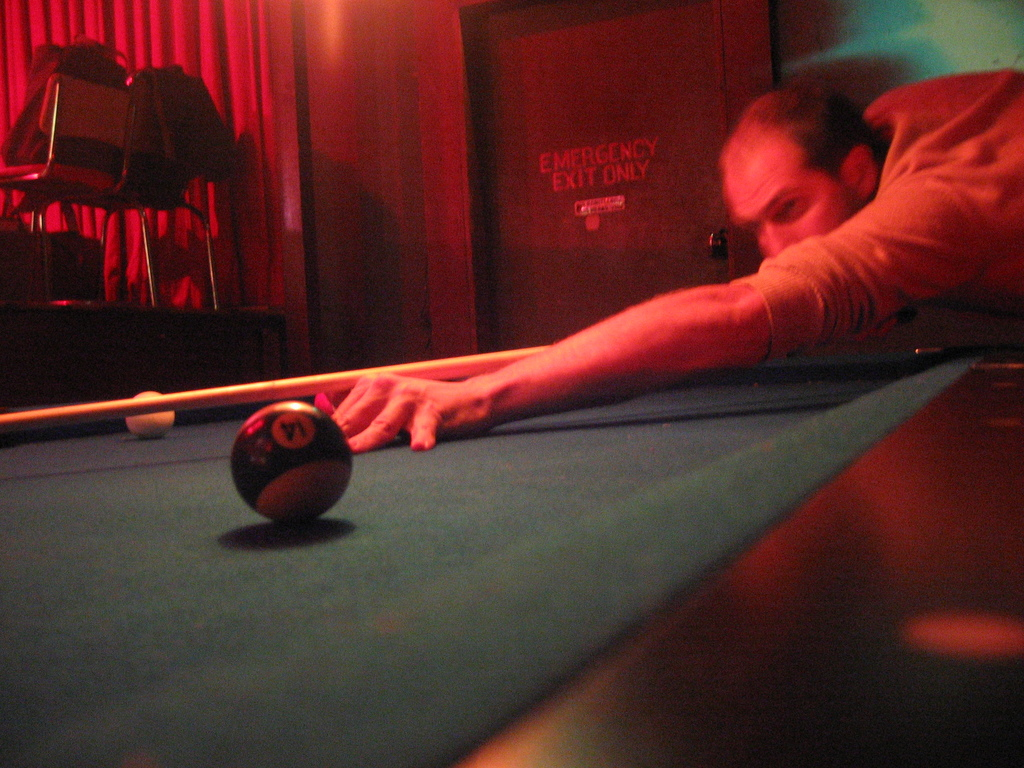Ball: (228, 400, 356, 523), (124, 387, 177, 442)
